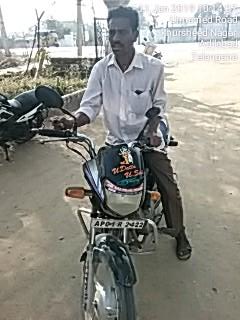plate: (89, 215, 146, 235)
